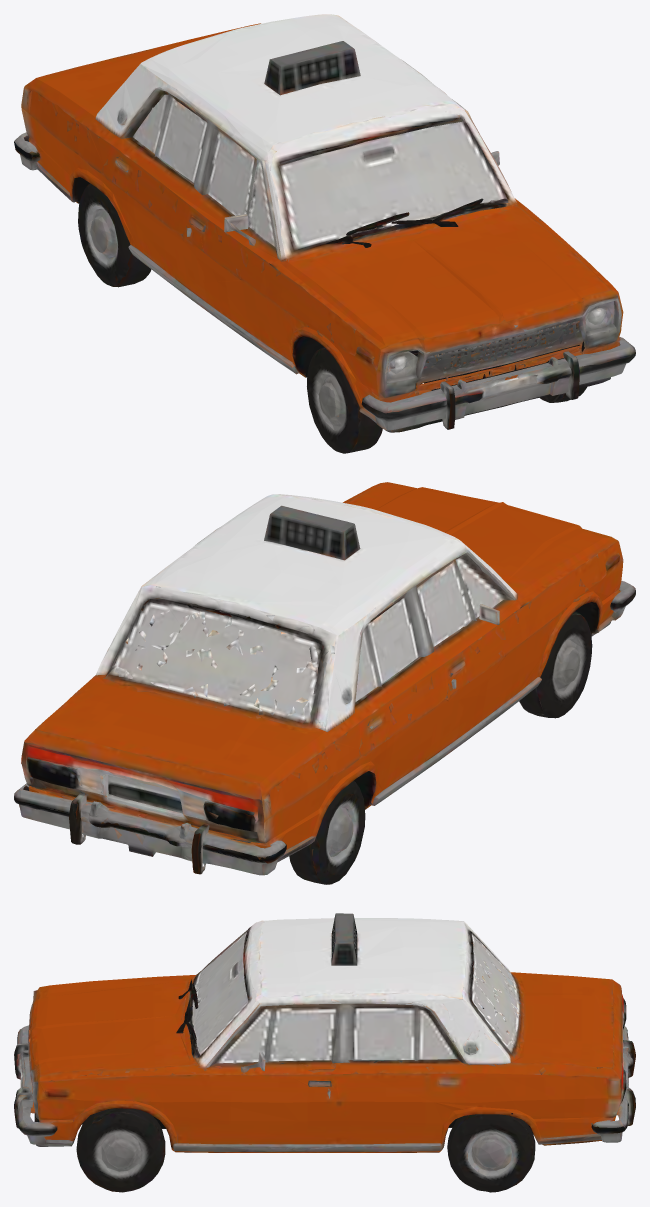
File: traffic-taxi.glb
3 views of the same model, one above another, from view 1: azimuth 30°, elevation 25°; view 2: azimuth 150°, elevation 25°; view 3: azimuth 270°, elevation 25° (orthographic). The views are drawn at different scales.
Parts seen in each view (by area): view 1: geometry_0; view 2: geometry_0; view 3: geometry_0.
Part boxes in pixels (left/top/right/bottom): geometry_0: left=14, top=14, right=635, bottom=453; geometry_0: left=14, top=482, right=635, bottom=884; geometry_0: left=14, top=913, right=635, bottom=1192.
Bounding box in the file's own units: 0.417 × 0.3904 × 1.
Materials: 1 (1 with a texture image).
